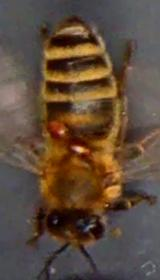varroa_mite: (42, 110, 74, 144), (62, 134, 98, 164)
